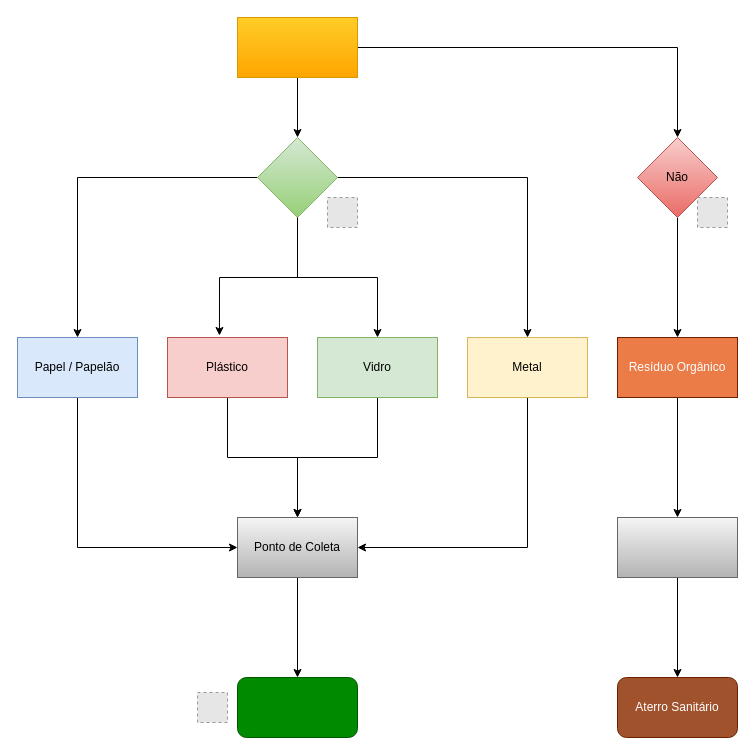
This 755x755 diagram has some shape labels left out. Grey dashed boxes stand in for pictures. The shapes that lost their labels are listed below. From the top down, each one's centre as x and y in pixels, then its label:
At pixel 297 47: "Resíduo Reciclável".
At pixel 297 177: "Sim".
At pixel 677 547: "Coleta de Lixo".
At pixel 297 707: "Reciclagem".
